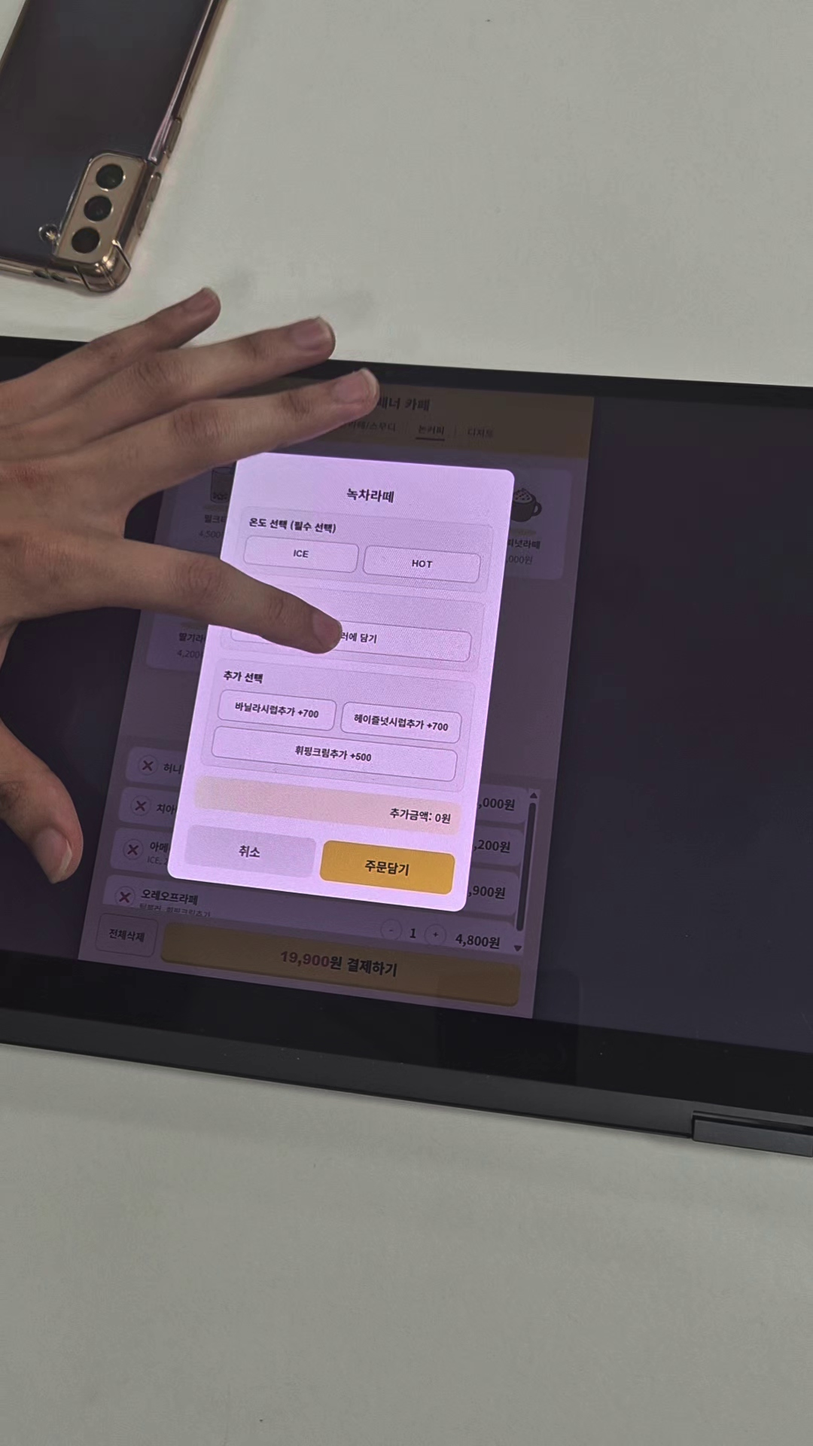action_button: (319, 842, 454, 893), (184, 826, 315, 877)
option_button: (210, 727, 457, 780), (231, 611, 470, 660), (342, 702, 463, 743), (217, 688, 336, 729), (363, 546, 478, 582), (243, 537, 358, 572)
popup_modal: (165, 450, 515, 913)
